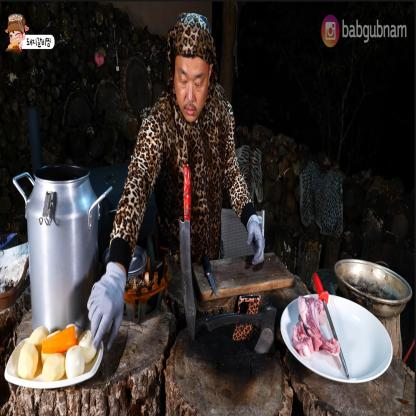streamer: (87, 12, 265, 351)
